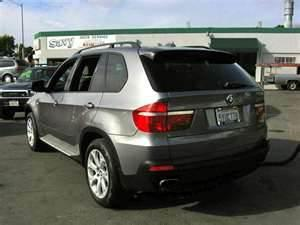Car: (23, 37, 278, 212)
